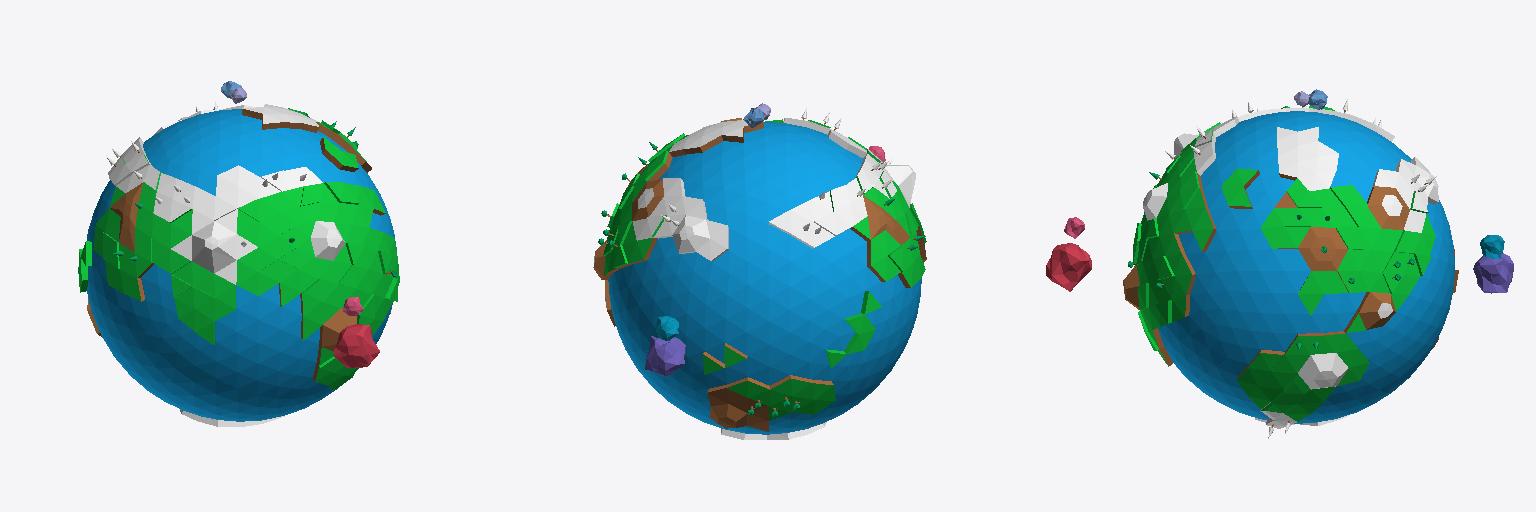
The model's file is world.obj.
3 renders of one model, left to right at view 1: azimuth 30°, elevation 25°; view 2: azimuth 150°, elevation 25°; view 3: azimuth 270°, elevation 25°, orthographic.
Visible parts, largest first — view 1: Sphere, Sphere.1, cloud; view 2: Sphere.1, Sphere, cloud.3; view 3: Sphere, Sphere.1, cloud, cloud.3.
Boxes of the visible parts, x1,y1,x2,y2 form: Sphere: [78, 104, 399, 426]; Sphere.1: [87, 109, 396, 421]; cloud: [333, 324, 379, 367]; Sphere.1: [608, 122, 921, 434]; Sphere: [593, 118, 926, 439]; cloud.3: [645, 336, 685, 375]; Sphere: [1123, 106, 1458, 428]; Sphere.1: [1158, 111, 1454, 423]; cloud: [1046, 243, 1091, 291]; cloud.3: [1473, 253, 1513, 293].
Size of the model in its own units: 911 by 953 by 1246.